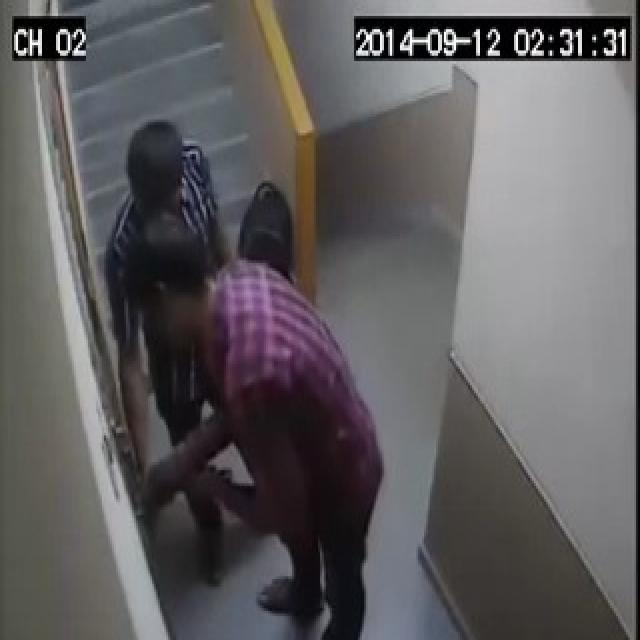thief: (102, 115, 396, 640)
